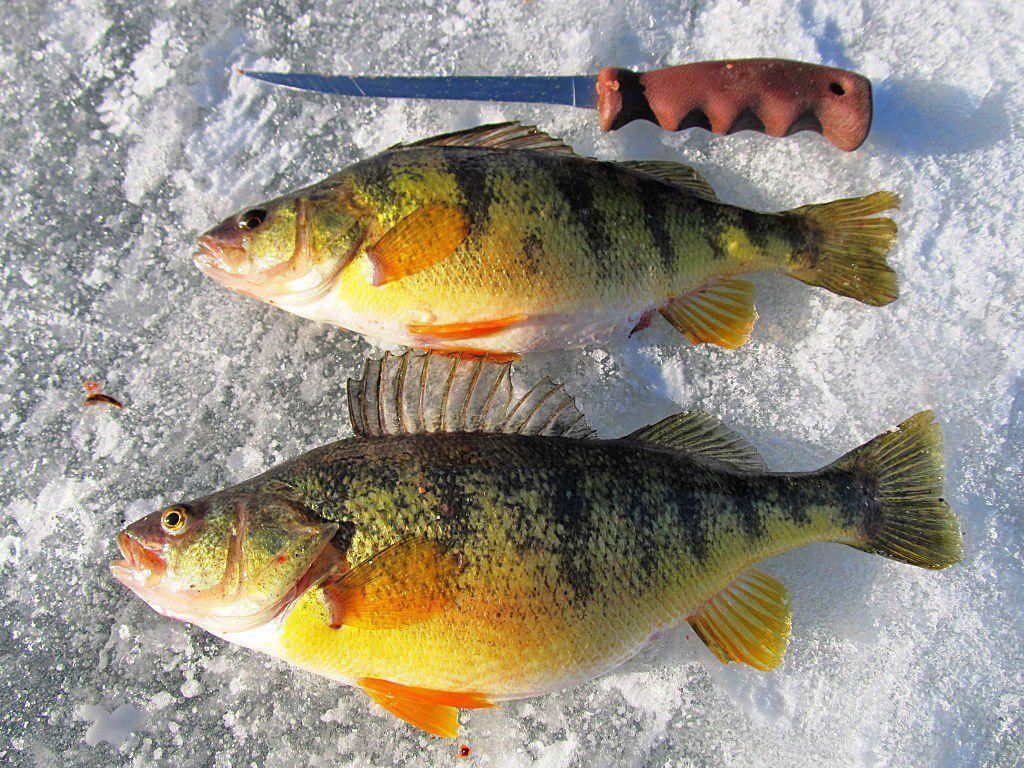Perch: (113, 348, 975, 764), (195, 116, 922, 368)
